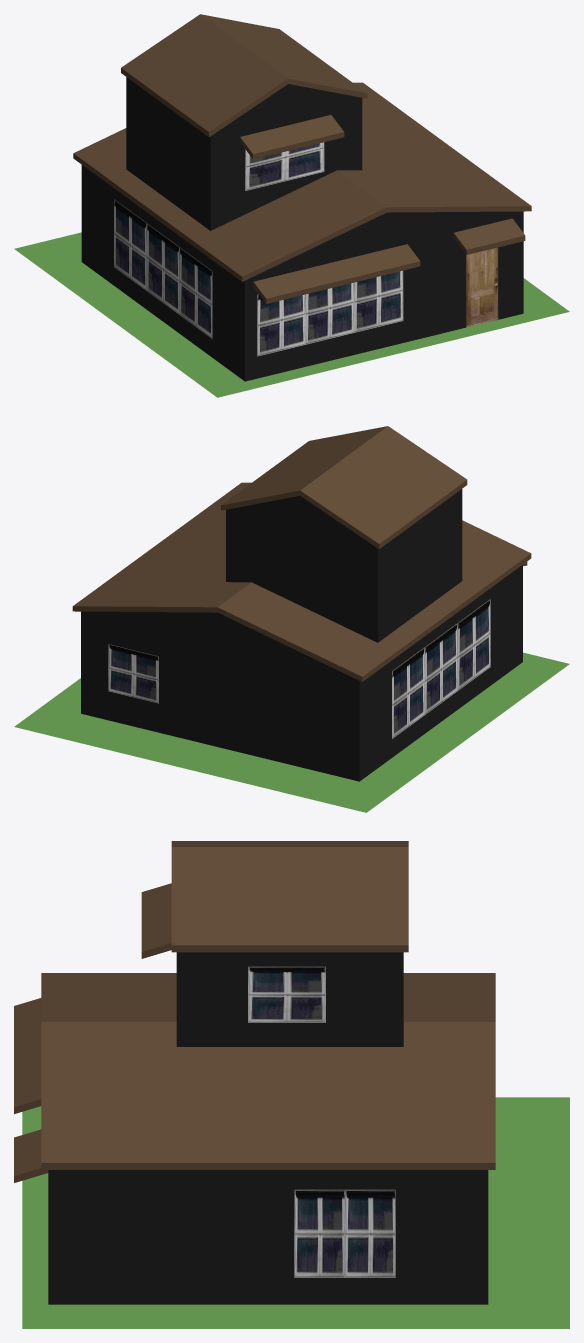
Rendered from House.009.gltf.
3 views of the same model, one above another, from view 1: azimuth 30°, elevation 25°; view 2: azimuth 150°, elevation 25°; view 3: azimuth 270°, elevation 25° (orthographic). The views are drawn at different scales.
Visible parts, largest first — view 1: building_018, Plane.009; view 2: building_018, Plane.009; view 3: building_018, Plane.009.
Part boxes in pixels (<box>): building_018: <box>73,14,531,381</box>; Plane.009: <box>14,232,569,397</box>; building_018: <box>72,426,531,781</box>; Plane.009: <box>14,652,569,812</box>; building_018: <box>14,841,495,1304</box>; Plane.009: <box>22,1097,569,1328</box>.
Size of the model in its own units: 7 by 4.7 by 7.11.
5 materials, 2 textured.
